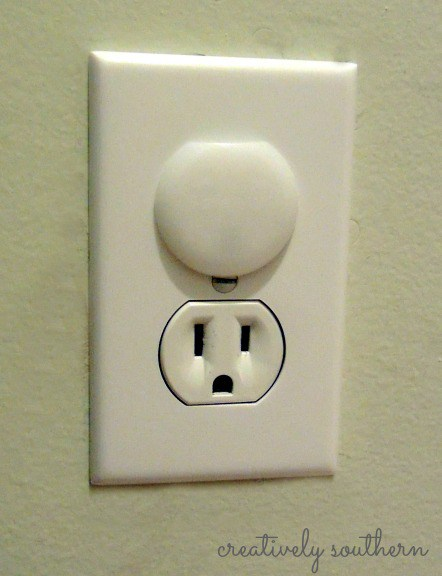outlet: (181, 316, 263, 401)
